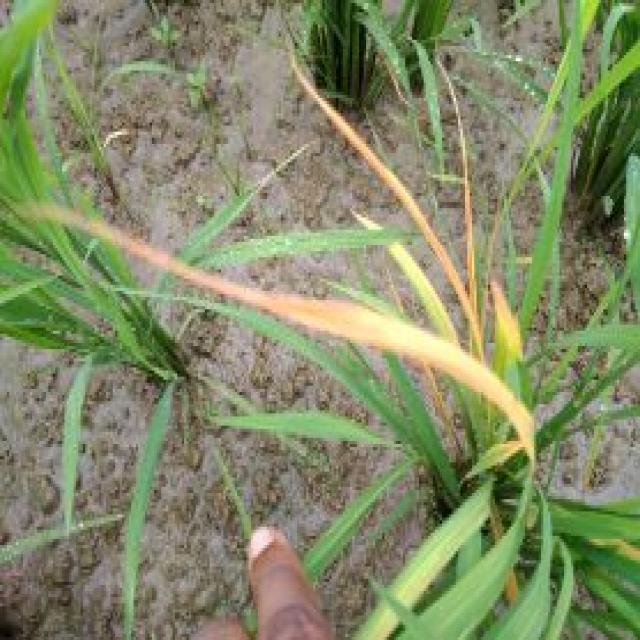Tungro: (52, 175, 559, 457), (282, 28, 484, 358), (449, 56, 482, 351)
